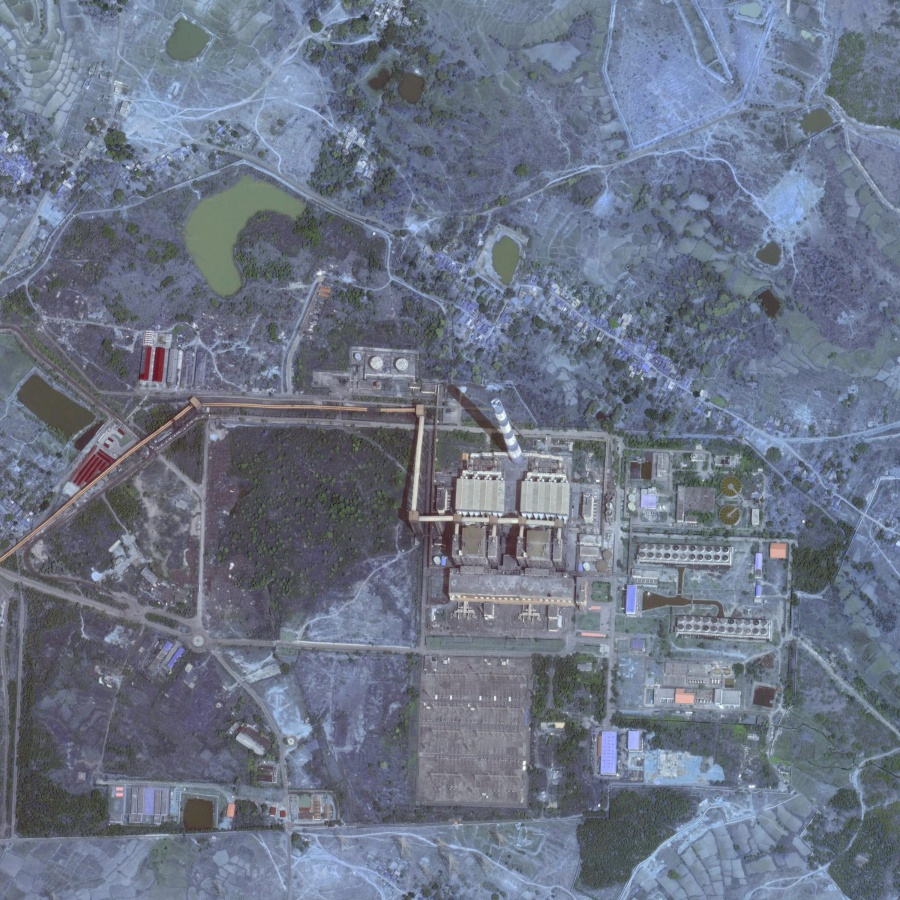PowerPlant: (422, 359, 576, 492)
